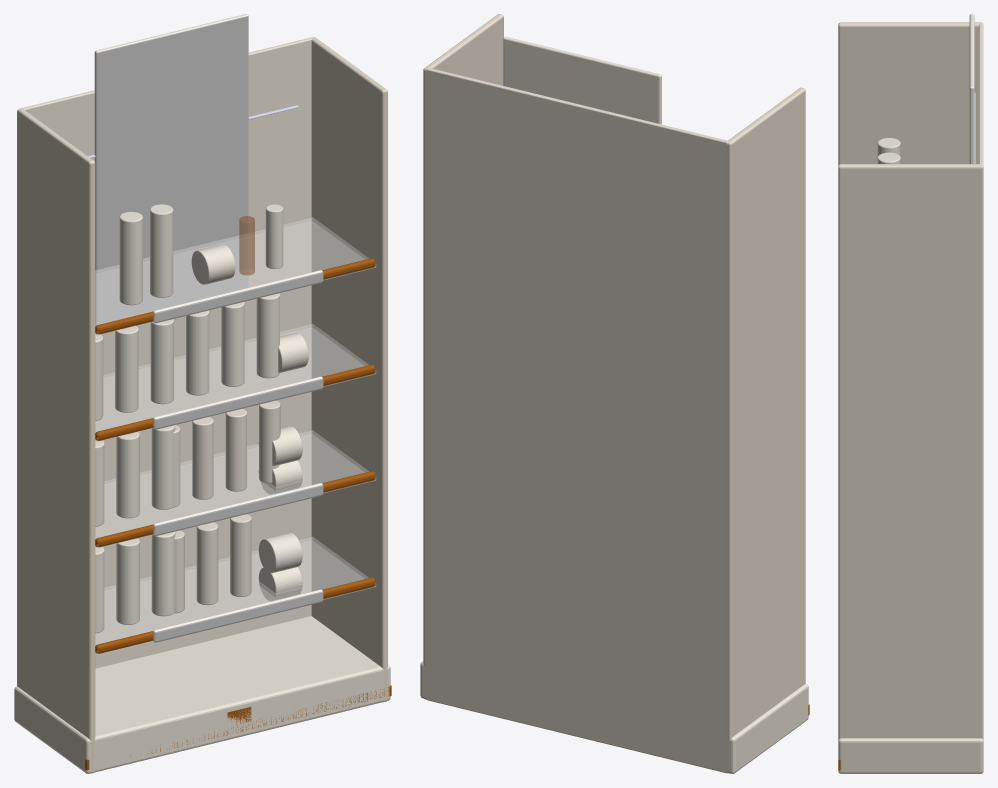
The model's file is kimi_k3_rack.obj.
3 renders of one model, left to right at view 1: azimuth 30°, elevation 25°; view 2: azimuth 150°, elevation 25°; view 3: azimuth 270°, elevation 25°, orthographic. The views are drawn at different scales.
Parts seen in each view (by area): view 1: back.panel, side.panel_1, side.panel_2, header.artwork_panel, base.plinth, shelf.deck_4, shelf.deck_3, shelf.deck_2, shelf.deck_1, shelf.talker_4, shelf.talker_1, shelf.talker_3 (+33 smaller); view 2: back.panel, side.panel_1, base.plinth, header.artwork_panel, side.panel_2; view 3: side.panel_2, side.panel_1, base.plinth, header.artwork_panel, back.panel, bottle.pump.hero_1.
Part boxes in pixels (x1=…): back.panel: x1=20, y1=37, x2=312, y2=668; side.panel_1: x1=17, y1=108, x2=95, y2=773; side.panel_2: x1=311, y1=37, x2=387, y2=702; header.artwork_panel: x1=94, y1=14, x2=248, y2=334; base.plinth: x1=14, y1=616, x2=390, y2=773; shelf.deck_4: x1=95, y1=217, x2=375, y2=335; shelf.deck_3: x1=95, y1=324, x2=375, y2=441; shelf.deck_2: x1=95, y1=430, x2=375, y2=548; shelf.deck_1: x1=95, y1=537, x2=375, y2=654; shelf.talker_4: x1=153, y1=270, x2=323, y2=323; shelf.talker_1: x1=153, y1=589, x2=323, y2=642; shelf.talker_3: x1=153, y1=376, x2=323, y2=429; back.panel: x1=426, y1=68, x2=727, y2=773; side.panel_1: x1=726, y1=87, x2=805, y2=773; base.plinth: x1=420, y1=661, x2=808, y2=773; header.artwork_panel: x1=503, y1=36, x2=661, y2=124; side.panel_2: x1=423, y1=14, x2=503, y2=699; side.panel_2: x1=838, y1=164, x2=983, y2=739; side.panel_1: x1=838, y1=22, x2=983, y2=164; base.plinth: x1=838, y1=738, x2=983, y2=773; header.artwork_panel: x1=969, y1=14, x2=974, y2=163; back.panel: x1=979, y1=23, x2=983, y2=165; bottle.pump.hero_1: x1=877, y1=138, x2=900, y2=156.
Size of the model in its own units: 0.9144 by 1.88 by 0.381.
